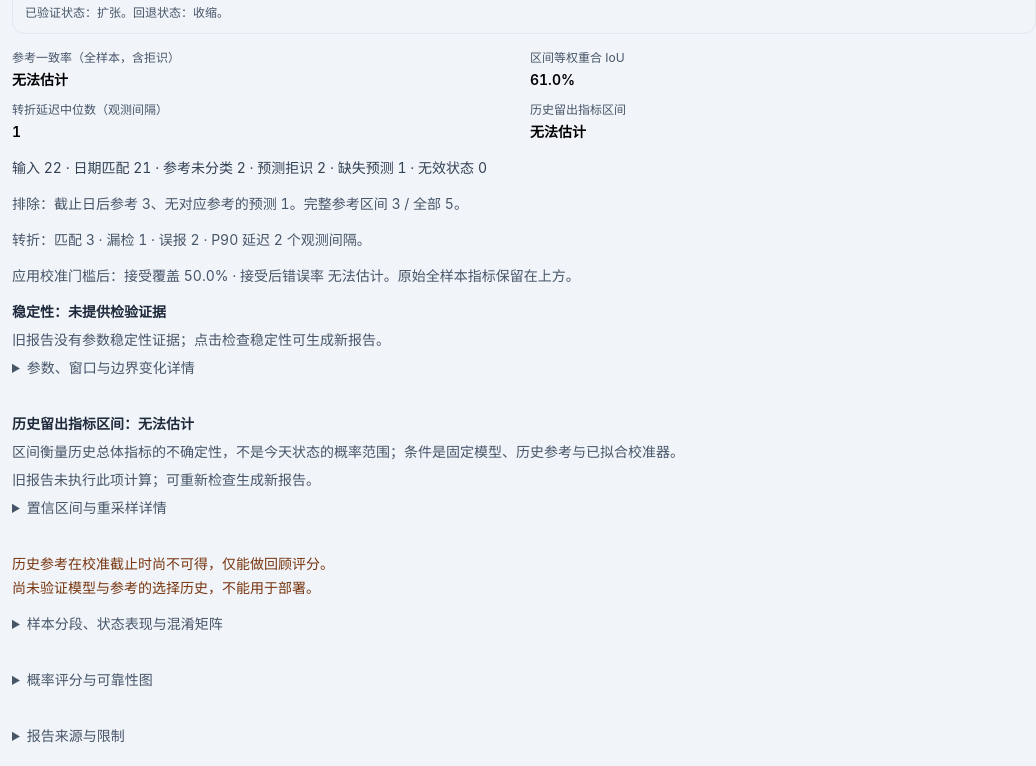
Test: 缺失指标显示无法估计；原始覆盖与校准门槛覆盖分开展示
(page scrolled)
Expected: the text "应用校准门槛后：接受覆盖 50.0% · 接受后错误率 无法估计。原始全样本指标保留在上方。" is shown, [12,267,580,284]
Step 1. Click the heading "概率评分与可靠性图" → [90, 680], box [27,671,153,688]
(page scrolled)
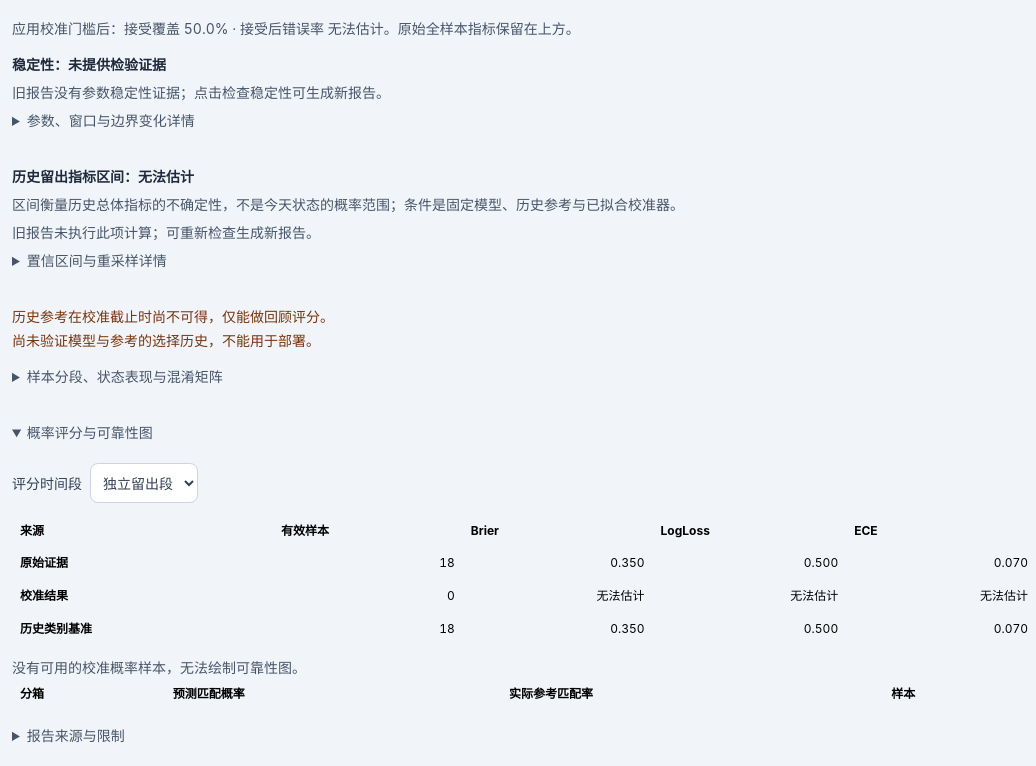
Now the text "没有可用的校准概率样本，无法绘制可靠性图。" is shown, box [12,659,306,676]
Now the cells read "0", "无法估计", "无法估计", "无法估计", in this order, box [273,580,463,612]; [463,580,653,612]; [652,580,846,612]; [846,580,1035,612]
